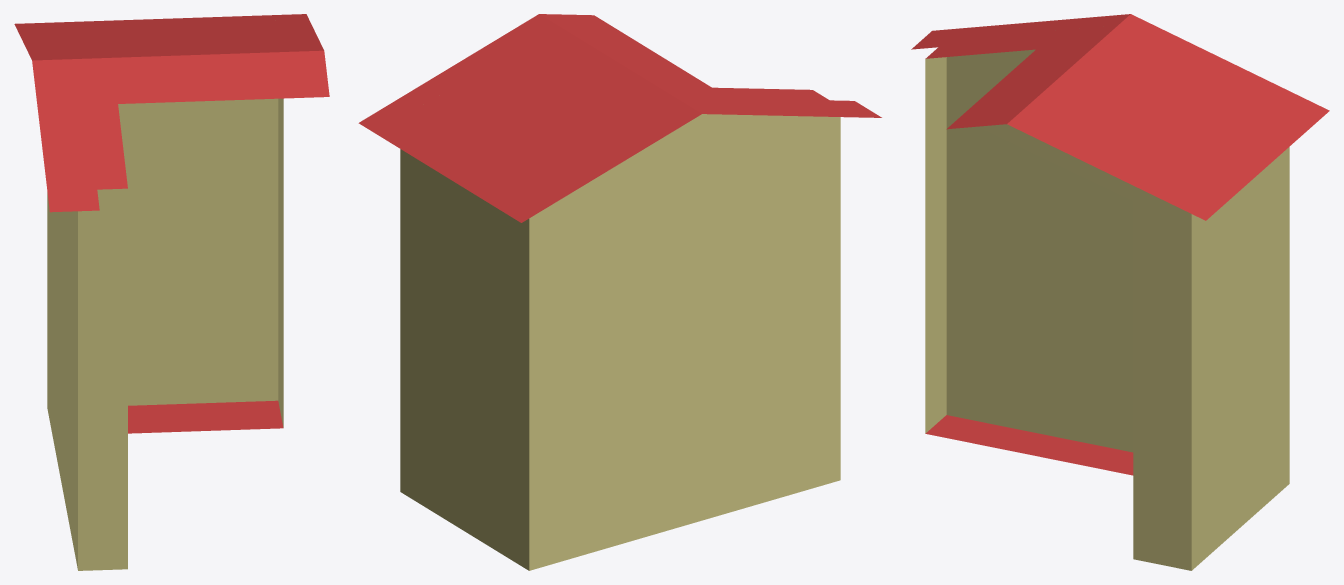
3 renders of one model, left to right at view 1: azimuth 30°, elevation 25°; view 2: azimuth 150°, elevation 25°; view 3: azimuth 270°, elevation 25°, orthographic.
Size of the model in its own units: 11.13 by 10.36 by 11.57.
